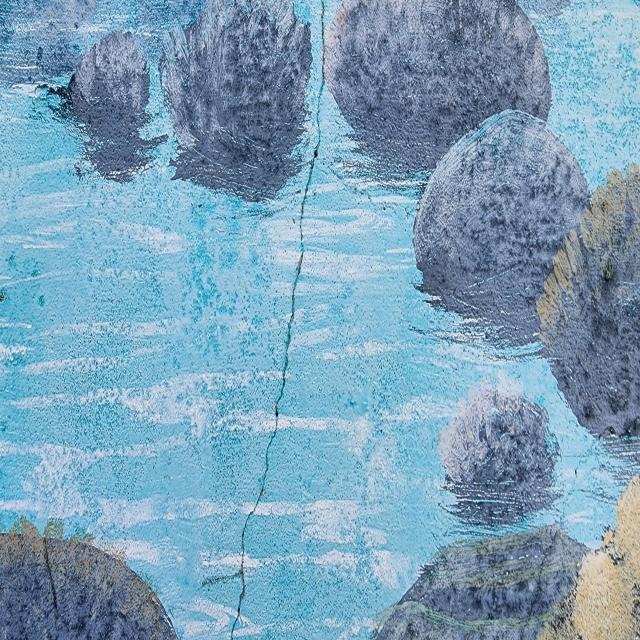SurfaceCrack: (191, 1, 351, 640)
